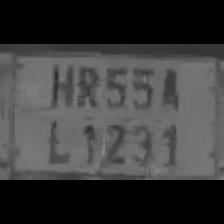1: (155, 118, 181, 168), (76, 117, 100, 165)
2: (99, 117, 127, 165)
3: (128, 119, 156, 167)
5: (101, 64, 127, 108), (129, 66, 155, 110)
A: (156, 64, 182, 114)
H: (44, 61, 74, 112)
L: (41, 114, 72, 164)
R: (73, 62, 101, 110)
